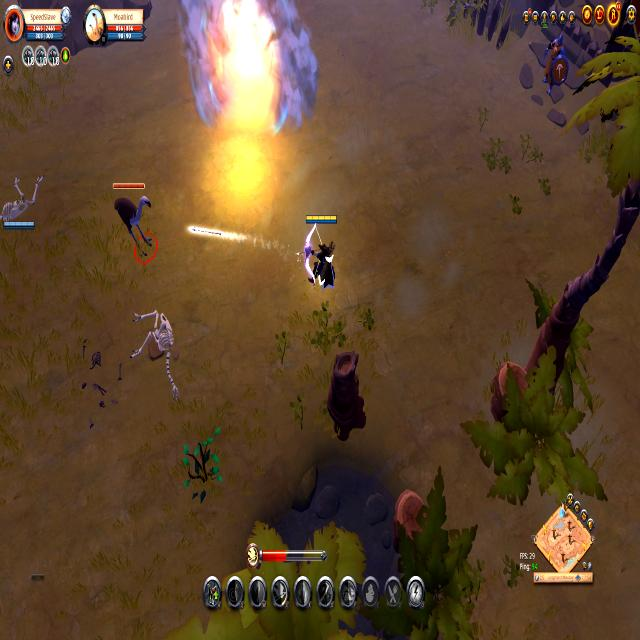ore: (110, 176, 158, 268)
red: (302, 210, 339, 292), (0, 216, 36, 233)
